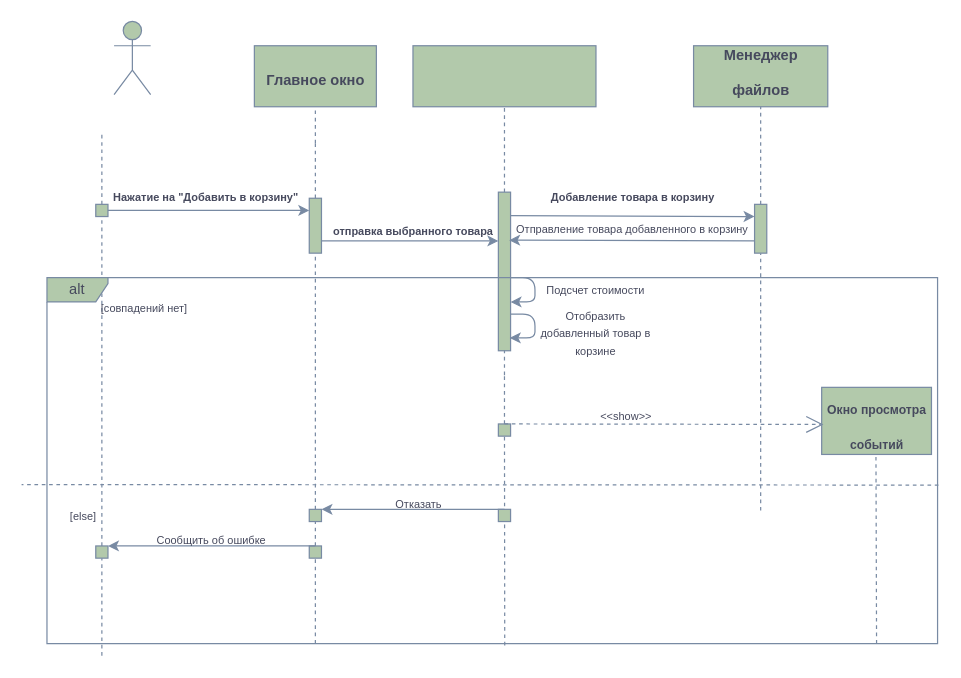
Some shapes in this 961 by 678 pixel diagram are drawn without their labels. Here are the shapes that lost their labels. From the top down, the centre of each, then its label:
At point (132, 57): "Пользователь".
At point (504, 76): "Менеджер корзины".
